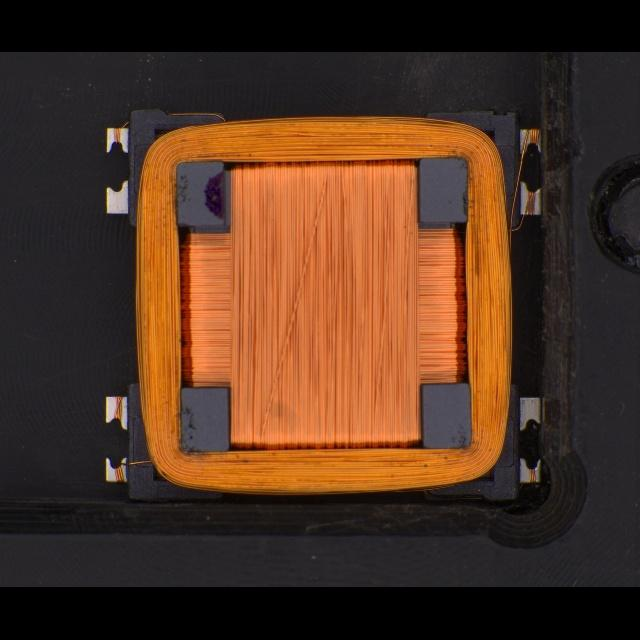Winding_Z: (121, 108, 519, 500)
